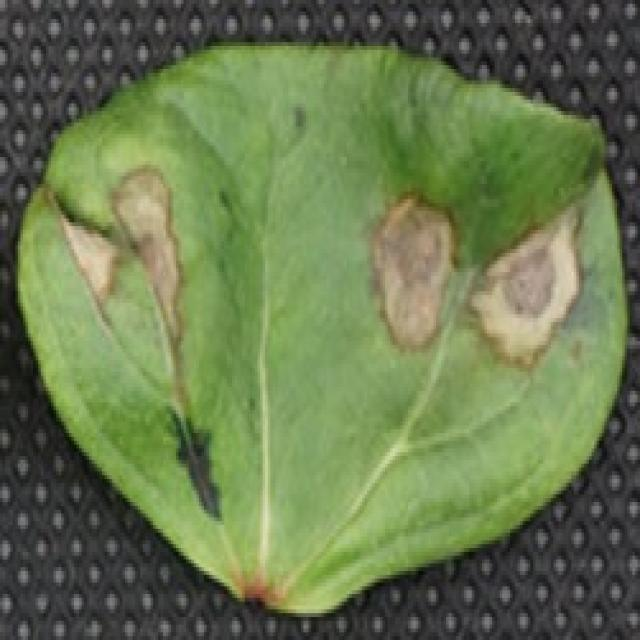Fusarium Wilt: (366, 150, 592, 398), (58, 163, 192, 390)
